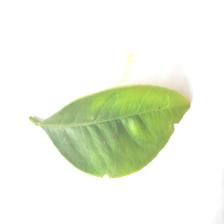healthy: (25, 80, 200, 179)
